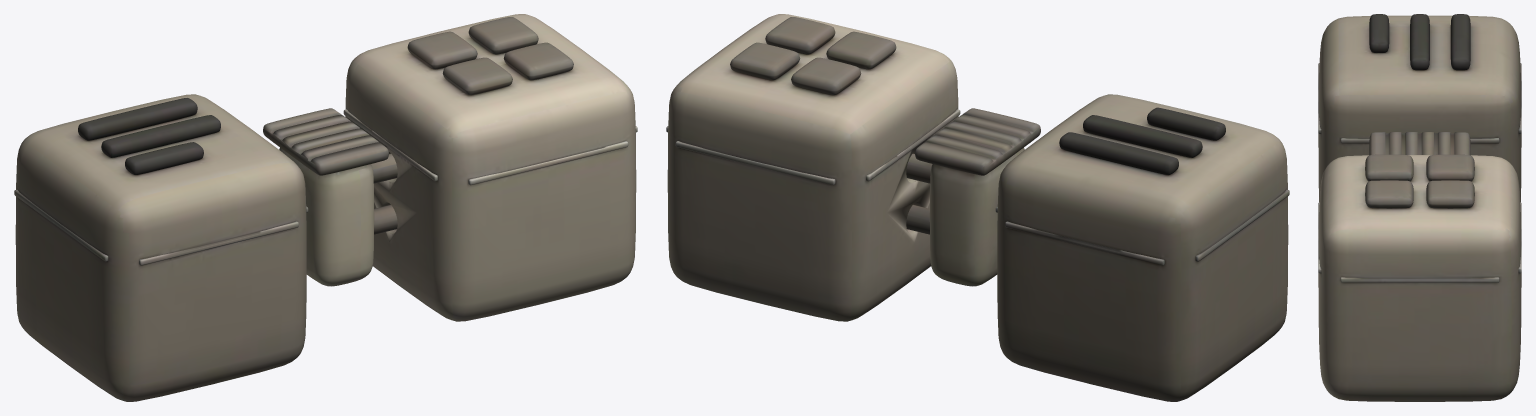
The model's file is plug.glb.
3 renders of one model, left to right at view 1: azimuth 30°, elevation 25°; view 2: azimuth 150°, elevation 25°; view 3: azimuth 270°, elevation 25°, orthographic. The views are drawn at different scales.
Visible parts, largest first — view 1: Block_A_mesh, Block_B_mesh, Plug_mesh; view 2: Block_A_mesh, Block_B_mesh, Plug_mesh; view 3: Block_B_mesh, Block_A_mesh, Plug_mesh.
Part boxes in pixels (<box>): Block_A_mesh: <box>14,94,308,401</box>; Block_B_mesh: <box>343,14,637,321</box>; Plug_mesh: <box>263,108,397,286</box>; Block_A_mesh: <box>995,94,1289,401</box>; Block_B_mesh: <box>666,14,960,321</box>; Plug_mesh: <box>906,108,1040,286</box>; Block_B_mesh: <box>1318,154,1521,401</box>; Block_A_mesh: <box>1318,14,1521,202</box>; Plug_mesh: <box>1369,132,1470,155</box>.
Bounding box in the file's own units: 2.62 × 1.06 × 1.
Materials: 1 (1 with a texture image).
